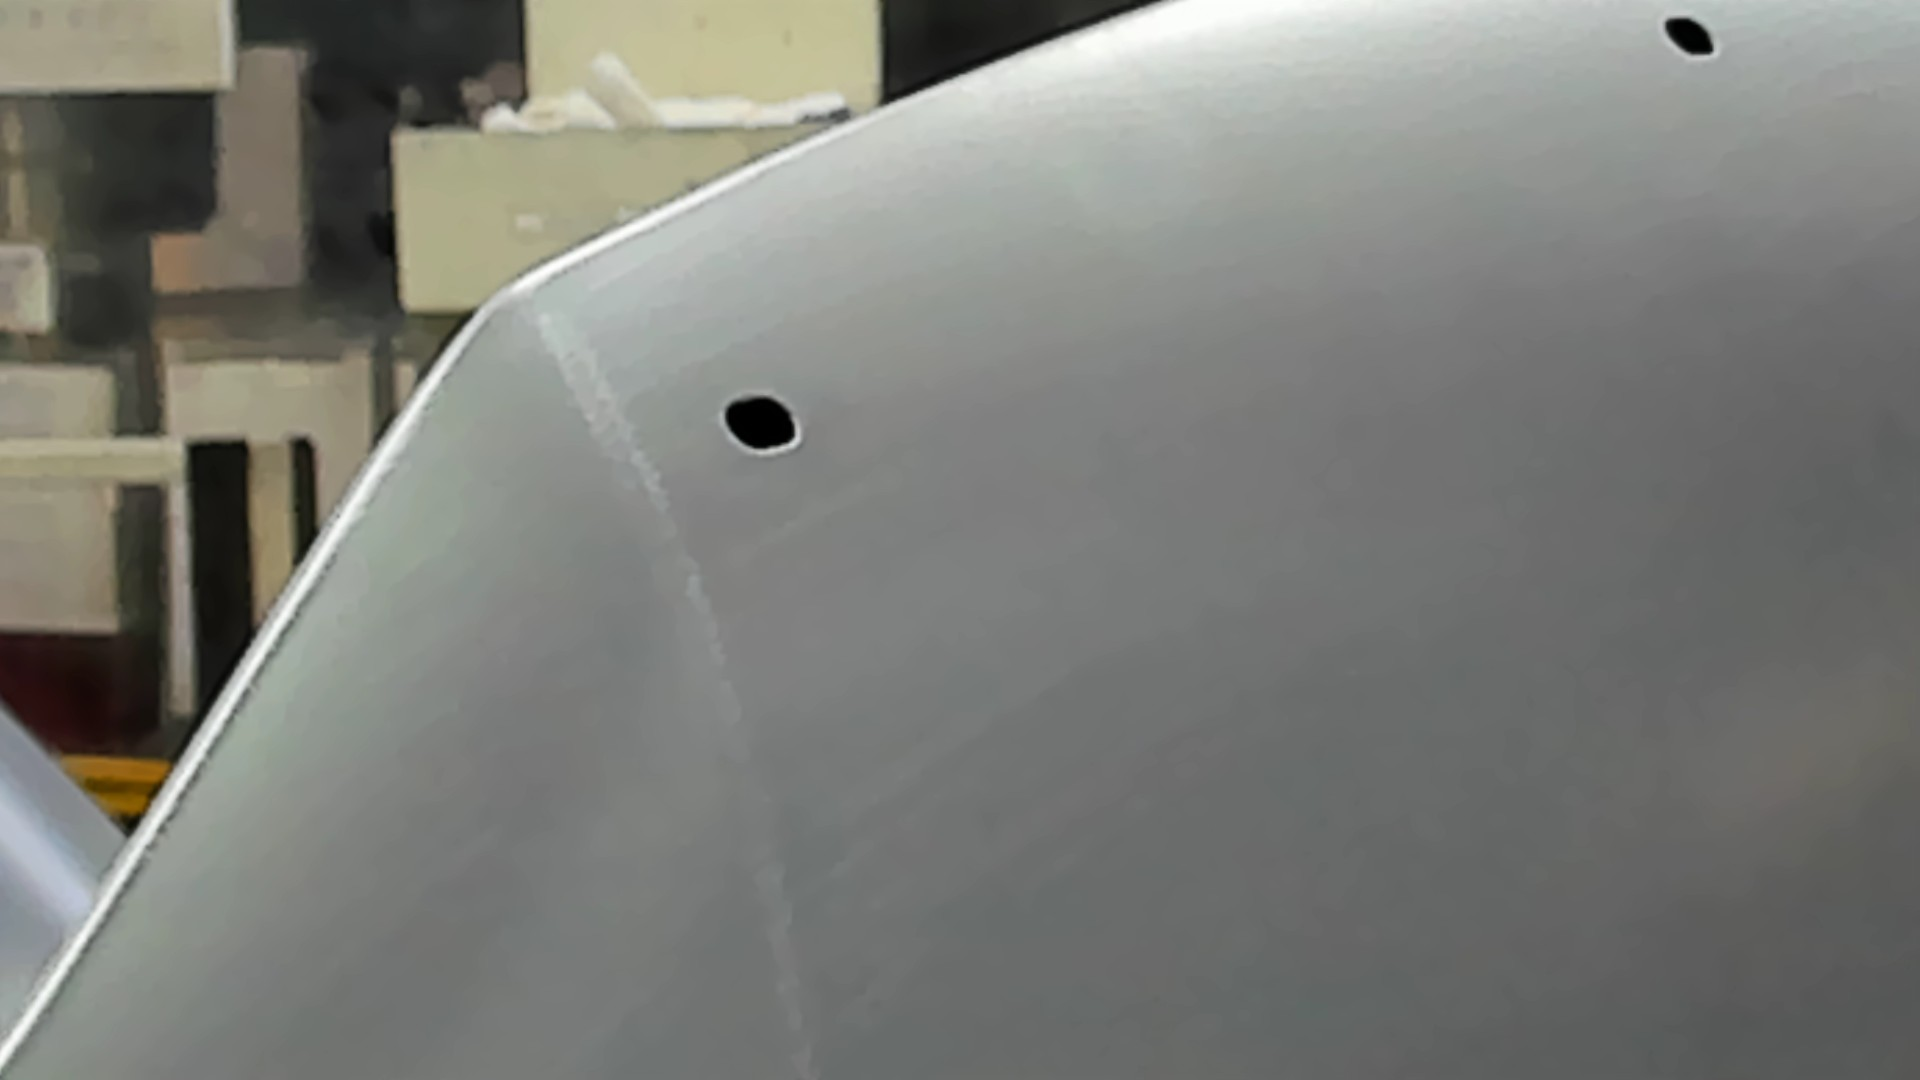amorfo: (715, 392, 808, 454), (1658, 11, 1725, 65)
